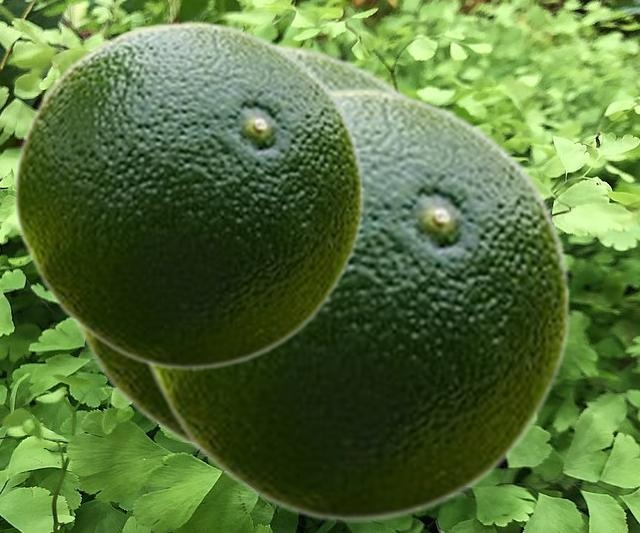calamansi: (141, 86, 572, 521), (66, 43, 412, 458), (12, 20, 364, 369)
